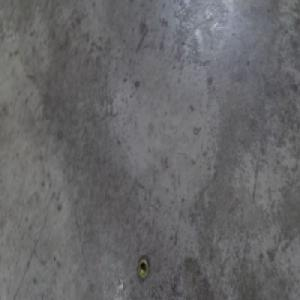Nut: (137, 255, 149, 281)
